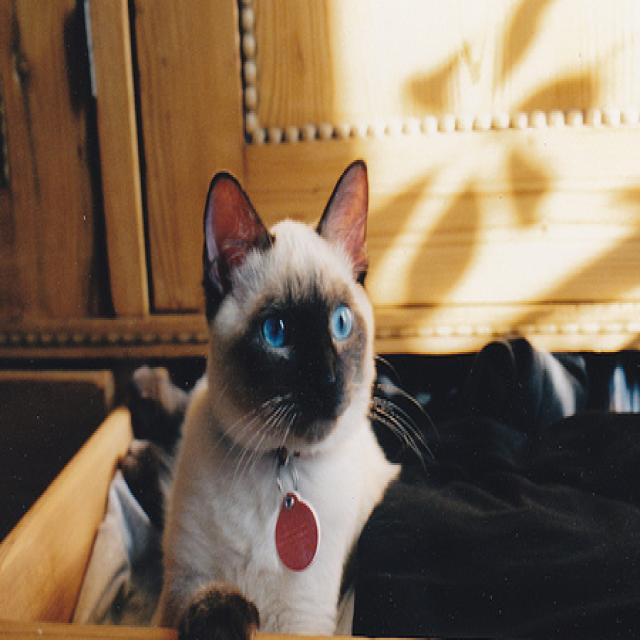Siamese: (158, 149, 405, 640)
